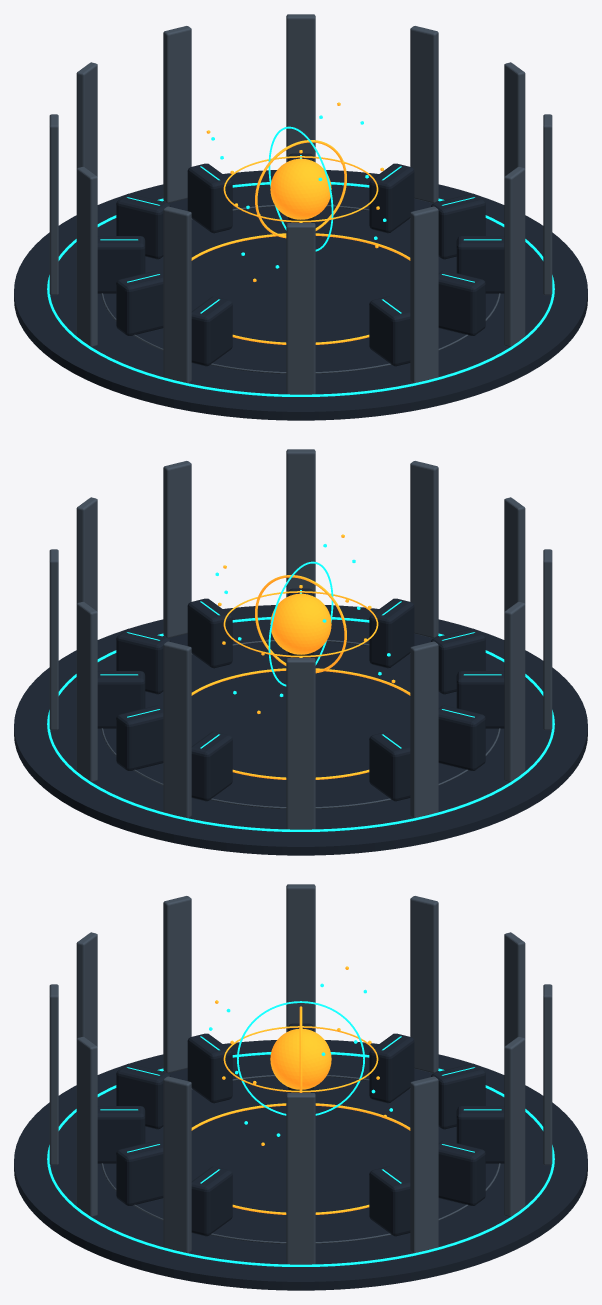
Rendered from jarvis-command-chamber.glb.
3 views of the same model, one above another, from view 1: azimuth 30°, elevation 25°; view 2: azimuth 150°, elevation 25°; view 3: azimuth 270°, elevation 25° (orthographic).
Parts seen in each view (by area): view 1: Command Chamber Floor, Rib_08, Rib_07, Rib_09, Rib_01, Rib_03, Rib_02, Rib_06, Rib_10, Jarvis Intelligence Core, Console_06, Console_10 (+18 smaller); view 2: Command Chamber Floor, Rib_04, Rib_03, Rib_05, Rib_09, Rib_11, Rib_10, Rib_02, Rib_06, Jarvis Intelligence Core, Console_02, Console_06 (+18 smaller); view 3: Command Chamber Floor, Rib_00, Rib_01, Rib_11, Rib_05, Rib_07, Rib_06, Rib_02, Rib_10, Jarvis Intelligence Core, Console_02, Console_10 (+17 smaller).
Part boxes in pixels (left/top/right/bottom): Command Chamber Floor: left=14, top=170, right=587, bottom=420; Rib_08: left=286, top=223, right=315, bottom=394; Rib_07: left=163, top=206, right=191, bottom=383; Rib_09: left=410, top=206, right=438, bottom=383; Rib_01: left=410, top=26, right=438, bottom=203; Rib_03: left=163, top=26, right=191, bottom=203; Rib_02: left=286, top=14, right=315, bottom=162; Rib_06: left=76, top=166, right=97, bottom=347; Rib_10: left=504, top=166, right=525, bottom=347; Jarvis Intelligence Core: left=270, top=158, right=331, bottom=219; Console_06: left=116, top=270, right=163, bottom=335; Console_10: left=438, top=270, right=485, bottom=335; Command Chamber Floor: left=14, top=605, right=587, bottom=855; Rib_04: left=286, top=658, right=315, bottom=829; Rib_03: left=163, top=641, right=191, bottom=818; Rib_05: left=410, top=641, right=438, bottom=818; Rib_09: left=410, top=461, right=438, bottom=638; Rib_11: left=163, top=461, right=191, bottom=638; Rib_10: left=286, top=449, right=315, bottom=597; Rib_02: left=76, top=601, right=97, bottom=782; Rib_06: left=504, top=601, right=525, bottom=782; Jarvis Intelligence Core: left=270, top=593, right=331, bottom=654; Console_02: left=116, top=705, right=163, bottom=770; Console_06: left=438, top=705, right=485, bottom=770; Command Chamber Floor: left=14, top=1040, right=587, bottom=1290; Rib_00: left=286, top=1093, right=315, bottom=1264; Rib_01: left=410, top=1076, right=438, bottom=1253; Rib_11: left=163, top=1076, right=191, bottom=1253; Rib_05: left=410, top=896, right=438, bottom=1073; Rib_07: left=163, top=896, right=191, bottom=1073; Rib_06: left=286, top=884, right=315, bottom=1032; Rib_02: left=504, top=1036, right=525, bottom=1217; Rib_10: left=76, top=1036, right=97, bottom=1217; Jarvis Intelligence Core: left=270, top=1028, right=331, bottom=1089; Console_02: left=438, top=1140, right=485, bottom=1205; Console_10: left=116, top=1140, right=163, bottom=1205.
Size of the model in its own units: 15 by 5.18 by 15.
